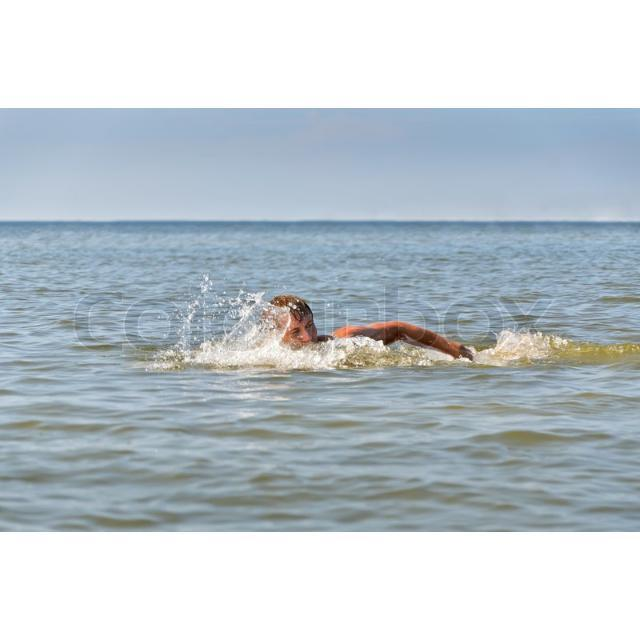human: (259, 292, 478, 368)
